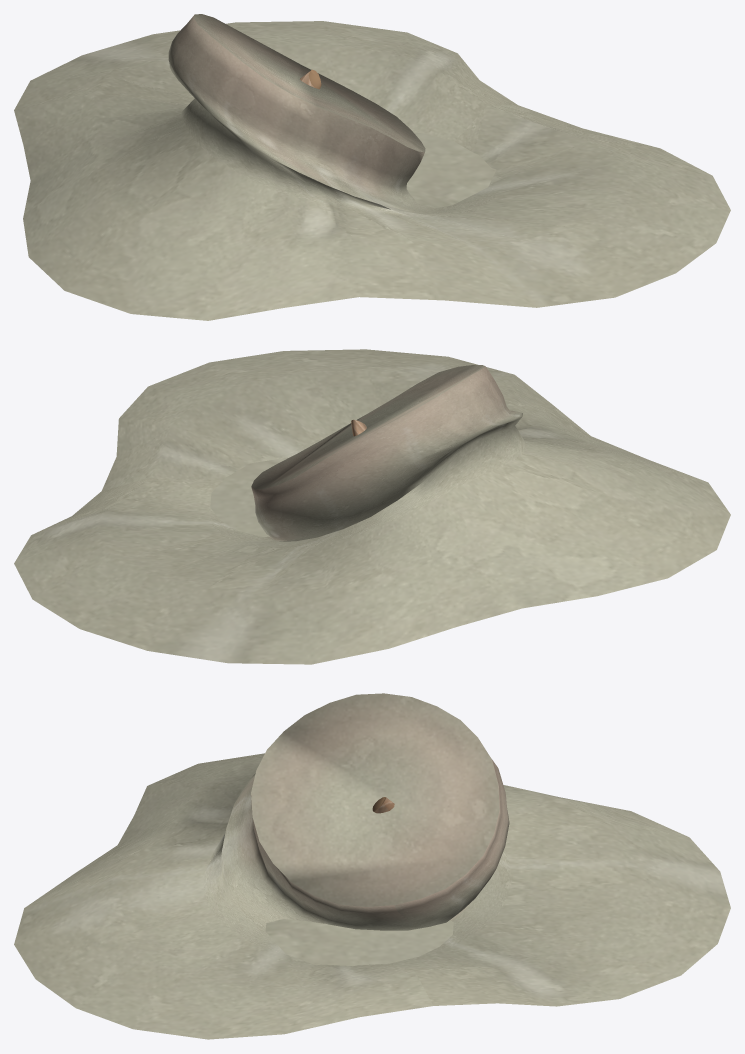
File: Candle Melting 03.fbx
3 renders of one model, top to bottom at view 1: azimuth 30°, elevation 25°; view 2: azimuth 150°, elevation 25°; view 3: azimuth 270°, elevation 25°, orthographic. The views are drawn at different scales.
Visible parts, largest first — view 1: Cube; view 2: Cube; view 3: Cube.
Boxes of the visible parts, box(x1,y1,x2,y2) form: Cube: box(14, 14, 730, 320); Cube: box(14, 349, 730, 664); Cube: box(14, 693, 730, 1039).
Size of the model in its own units: 15.07 by 4.26 by 16.35.
